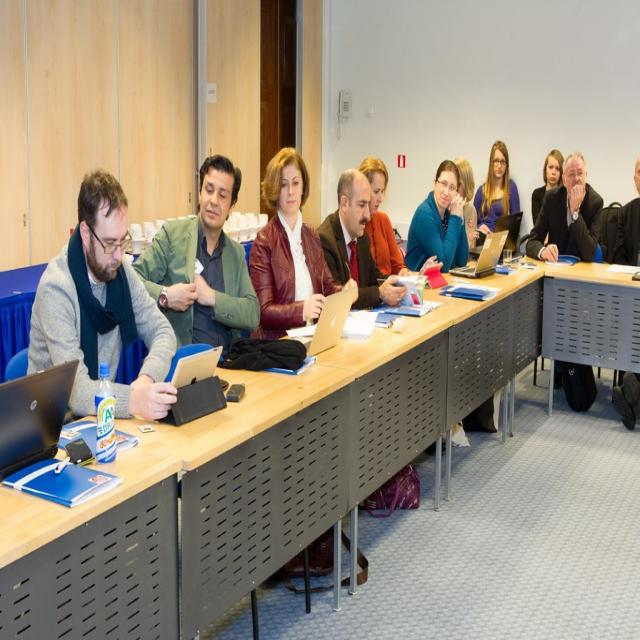chair: (5, 347, 29, 381)
desk: (0, 242, 640, 640)
laptop: (0, 358, 78, 478), (18, 459, 120, 509), (292, 281, 356, 354), (164, 341, 223, 389), (449, 229, 508, 277), (495, 211, 524, 255)
person: (27, 167, 179, 420), (131, 154, 260, 362), (249, 144, 345, 334), (317, 167, 408, 312), (525, 151, 604, 262), (609, 151, 640, 423), (406, 158, 471, 276), (359, 155, 406, 278), (471, 140, 521, 237), (530, 149, 564, 230)
